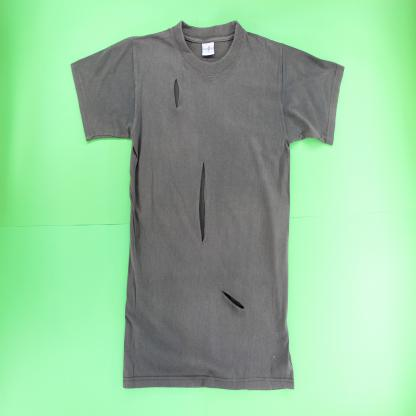hole: (197, 157, 207, 245), (220, 287, 246, 313), (172, 76, 180, 111)
